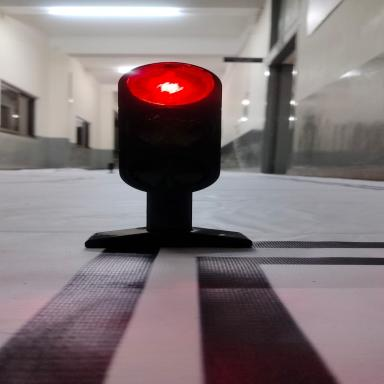traffic red: (66, 52, 260, 273)
